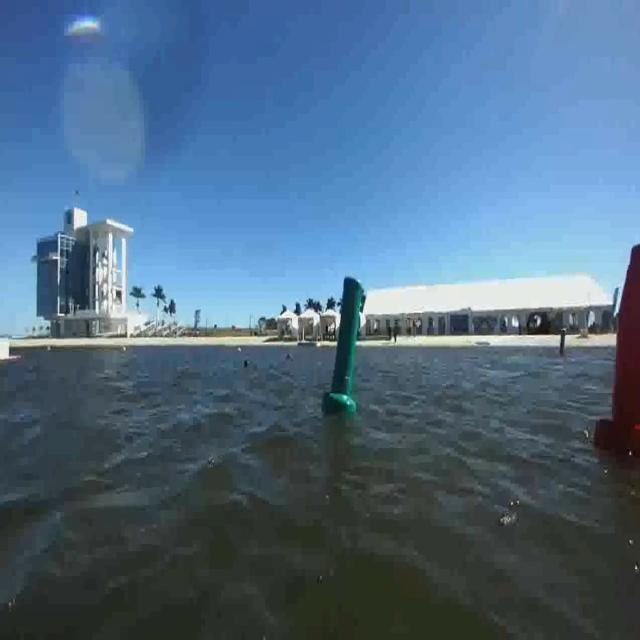green-column-buoy: (326, 271, 364, 413)
red-column-buoy: (596, 222, 640, 462)
